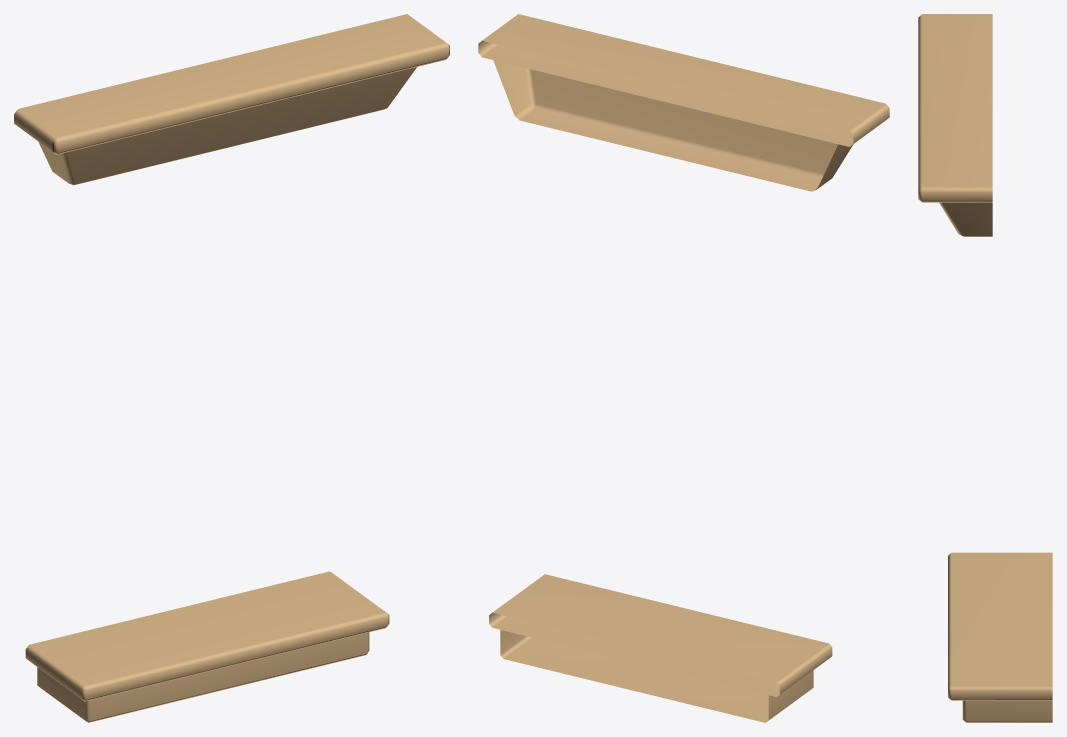
The model's file is DBK_WinSmall_Trim_E_Full.fbx.
3 views of the same model, side by side, from view 1: azimuth 30°, elevation 25°; view 2: azimuth 150°, elevation 25°; view 3: azimuth 270°, elevation 25° (orthographic). The views are drawn at different scales.
Visible parts, largest first — view 1: DBK_WinSmall_Trim_E_Full; view 2: DBK_WinSmall_Trim_E_Full; view 3: DBK_WinSmall_Trim_E_Full.
Part boxes in pixels (x1=…): DBK_WinSmall_Trim_E_Full: x1=14, y1=14, x2=449, y2=722; DBK_WinSmall_Trim_E_Full: x1=478, y1=14, x2=889, y2=722; DBK_WinSmall_Trim_E_Full: x1=918, y1=14, x2=1052, y2=722.
Bounding box in the file's own units: 106 × 157 × 34.1.
